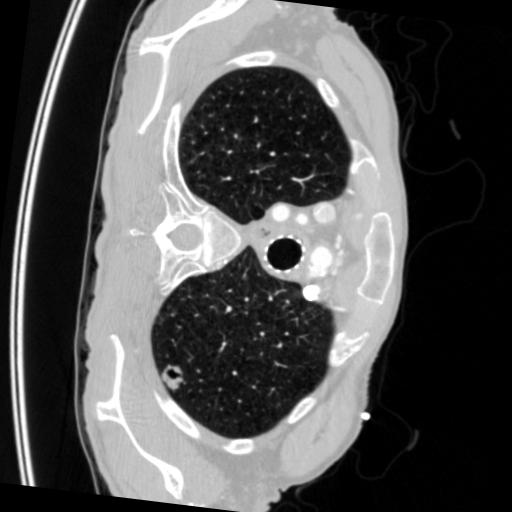nodule: (159, 364, 190, 395)
